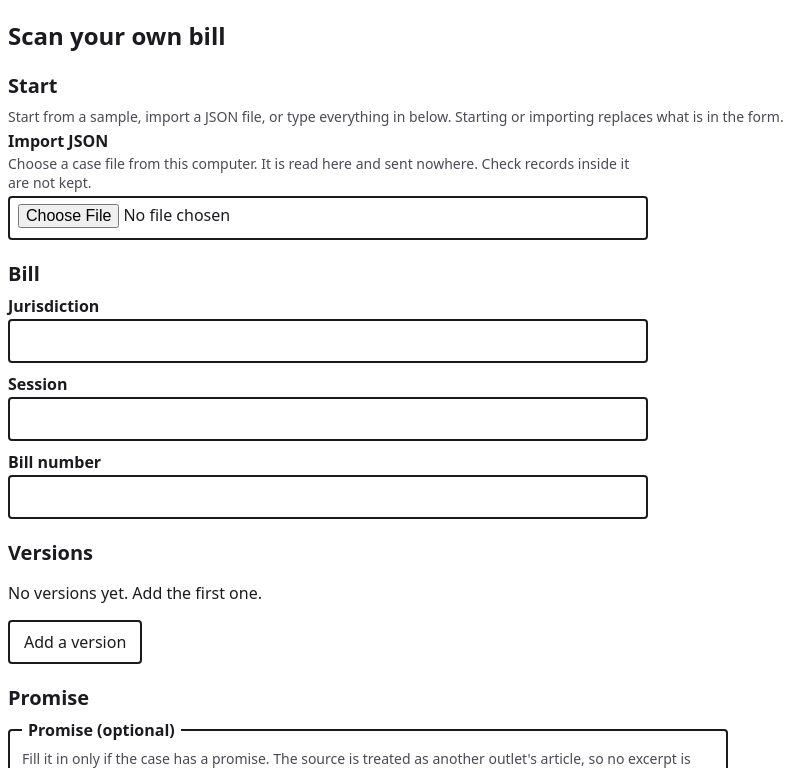
Test: the form › a warning keeps the version in the scan
The image size is (800, 768).
Click the button "Add a version" at (75, 642), box left=8, top=620, right=142, bottom=664
(page scrolled)
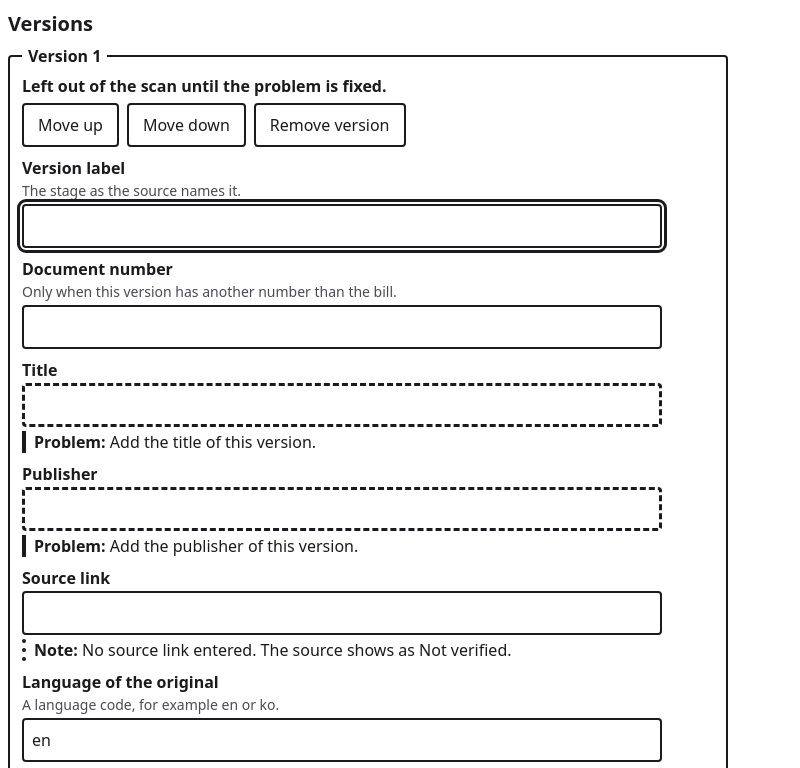
Type "Synthetic title" into the field labelled "Title" at (342, 405), box left=22, top=383, right=662, bottom=427
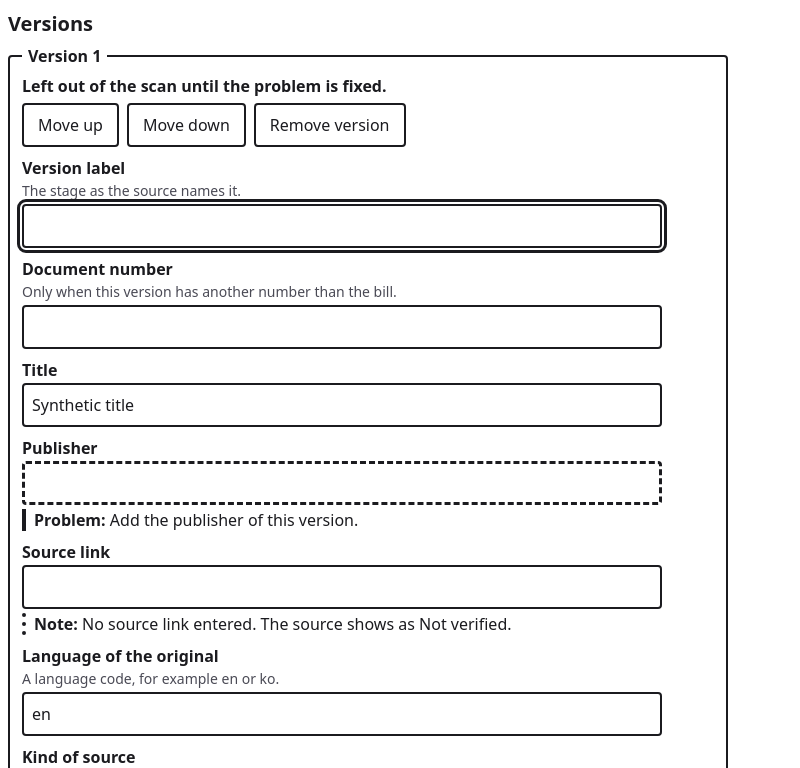
Type "Synthetic publisher" into the field labelled "Publisher" at (342, 483), box left=22, top=461, right=662, bottom=505
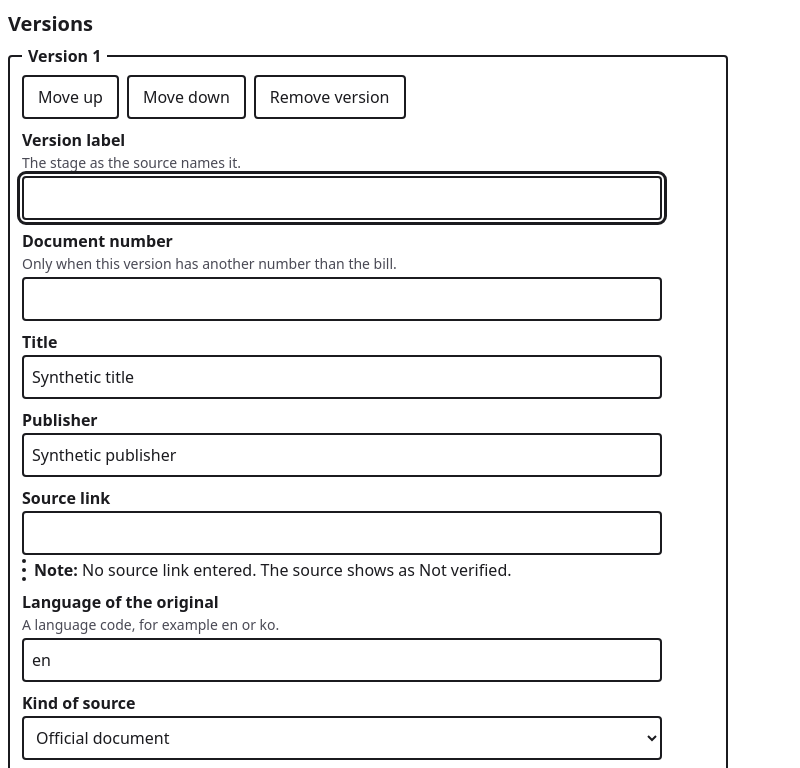
Now the text "Left out of the scan until the problem is fixed." is gone
